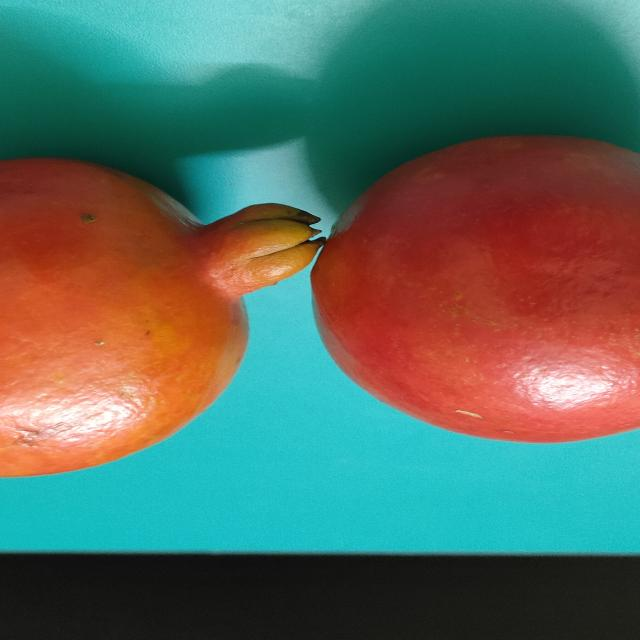Good_Pomegranate-50-60-days: (0, 135, 640, 479)
